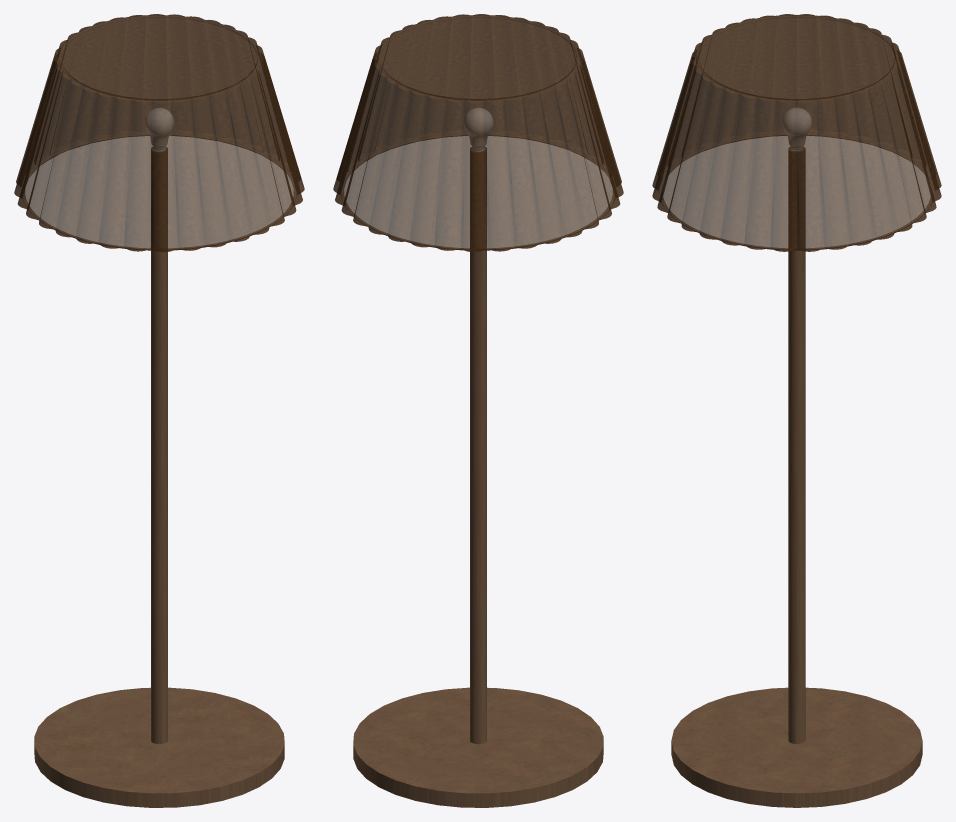
File: wac-pleat-table-lamp.glb
3 views of the same model, side by side, from view 1: azimuth 30°, elevation 25°; view 2: azimuth 150°, elevation 25°; view 3: azimuth 270°, elevation 25° (orthographic).
Visible parts, largest first — view 1: SSS, Cylinder, Plane.004; view 2: SSS, Cylinder, Plane.004; view 3: SSS, Cylinder, Plane.004.
Part boxes in pixels (x1=…): SSS: x1=14, y1=14, x2=304, y2=252; Cylinder: x1=34, y1=147, x2=284, y2=807; Plane.004: x1=145, y1=108, x2=173, y2=151; SSS: x1=333, y1=14, x2=623, y2=252; Cylinder: x1=353, y1=147, x2=603, y2=807; Plane.004: x1=464, y1=108, x2=492, y2=151; SSS: x1=652, y1=14, x2=941, y2=251; Cylinder: x1=671, y1=147, x2=922, y2=807; Plane.004: x1=782, y1=108, x2=811, y2=150.
Size of the model in its own units: 0.2154 by 0.5733 by 0.2154.
3 materials, 3 textured.
